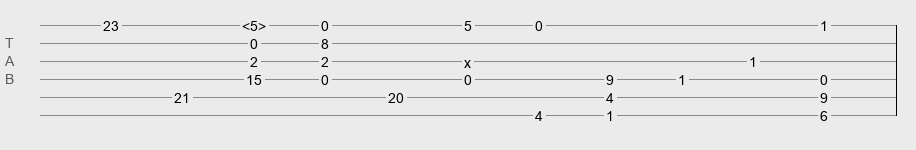0: (250, 36, 258, 46), (321, 72, 329, 82), (321, 18, 329, 28), (464, 72, 472, 82), (535, 18, 543, 28), (820, 72, 828, 82)
1: (606, 108, 614, 118), (678, 72, 686, 82), (749, 54, 757, 64), (820, 18, 828, 28)
15: (246, 72, 262, 82)
2: (250, 54, 258, 64), (321, 54, 329, 64)
20: (388, 90, 404, 100)
21: (174, 90, 190, 100)
23: (103, 18, 119, 28)
4: (535, 108, 543, 118), (606, 90, 614, 100)
5: (464, 18, 472, 28)
6: (820, 108, 828, 118)
8: (321, 36, 329, 46)
9: (606, 72, 614, 82), (820, 90, 828, 100)
harmonic: (242, 18, 266, 28)
x: (464, 55, 471, 63)
